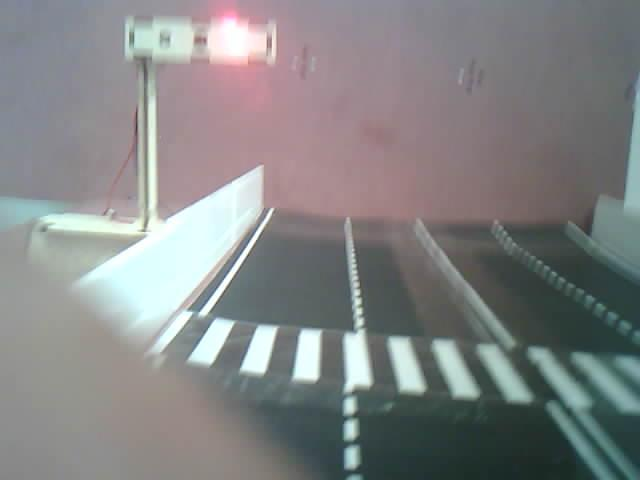crosswalk: (170, 302, 640, 362)
red: (101, 11, 289, 172)
